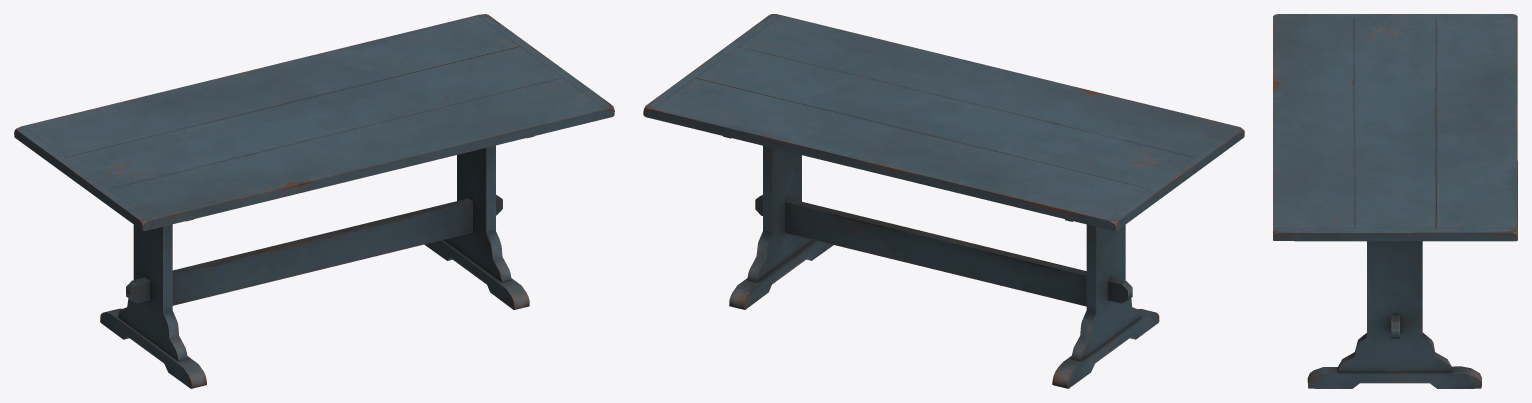
The model's file is painted_wooden_table.glb.
The picture shows the model from 3 angles, left to right: view 1: azimuth 30°, elevation 25°; view 2: azimuth 150°, elevation 25°; view 3: azimuth 270°, elevation 25°; orthographic projection. The views are drawn at different scales.
Parts seen in each view (by area): view 1: painted_wooden_table; view 2: painted_wooden_table; view 3: painted_wooden_table.
Boxes of the visible parts, x1,y1,x2,y2 form: painted_wooden_table: [14, 14, 614, 388]; painted_wooden_table: [643, 14, 1244, 388]; painted_wooden_table: [1273, 14, 1517, 388].
Bounding box in the file's own units: 2.4 × 0.9586 × 1.14.
Materials: 1 (1 with a texture image).
